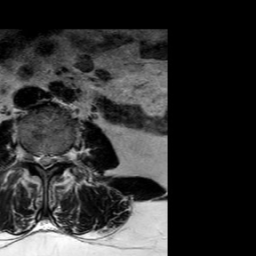CCS_severe_stenosis: (43, 144, 50, 176)
LFS_normal: (58, 144, 66, 170)
LLS_normal: (50, 144, 58, 174)
RFS_normal: (28, 143, 36, 169)
RLS_normal: (36, 146, 43, 173)
